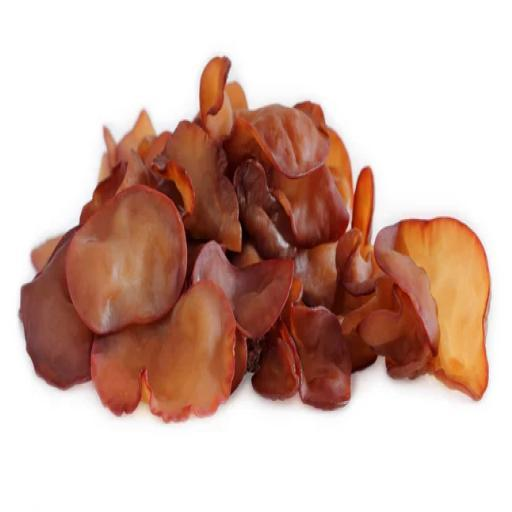mushroom: (4, 37, 504, 460)
